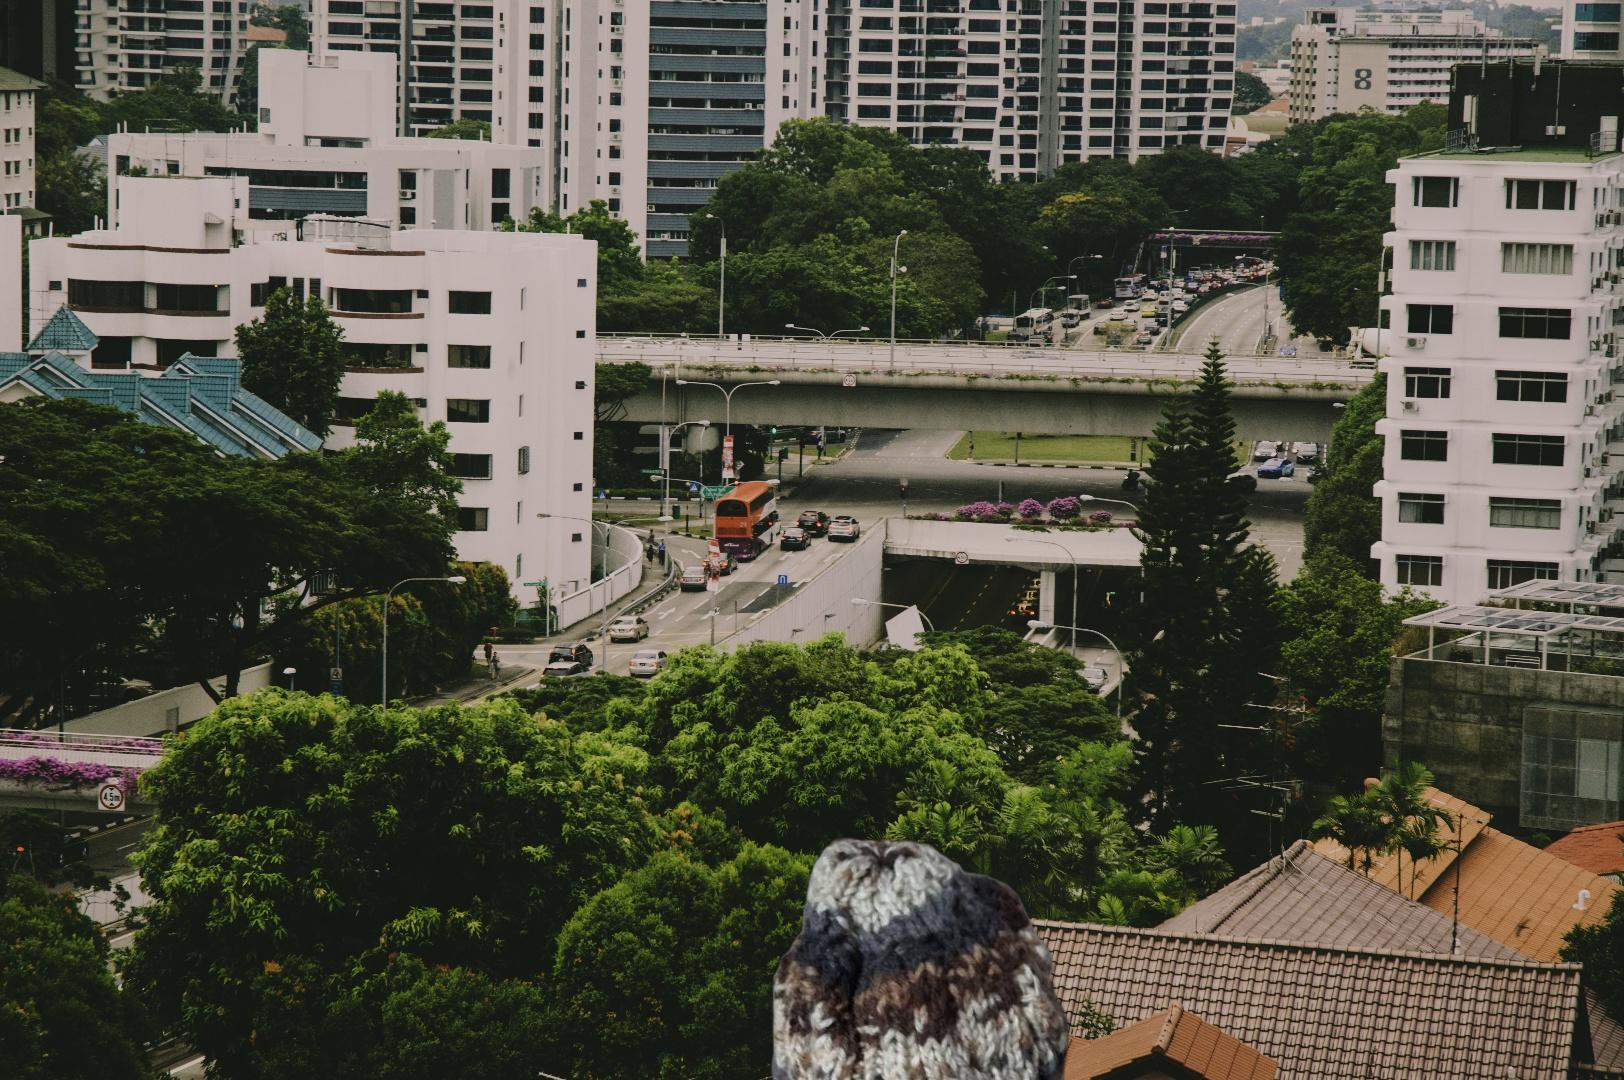clothes: (766, 833, 1076, 1080)
